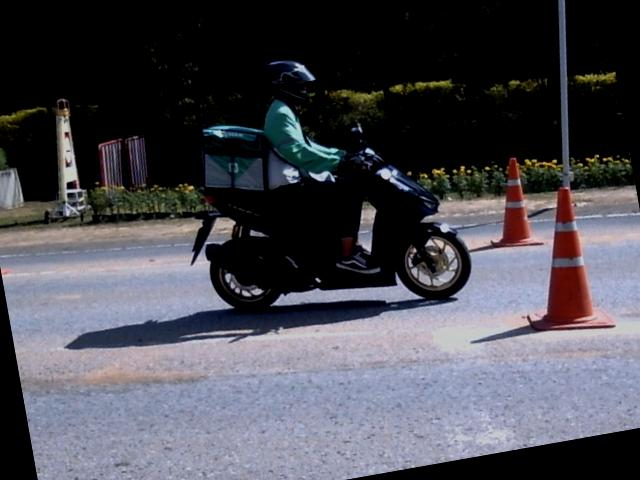helmet: (264, 58, 315, 104)
motor: (190, 123, 470, 310)
person: (262, 59, 378, 274)
